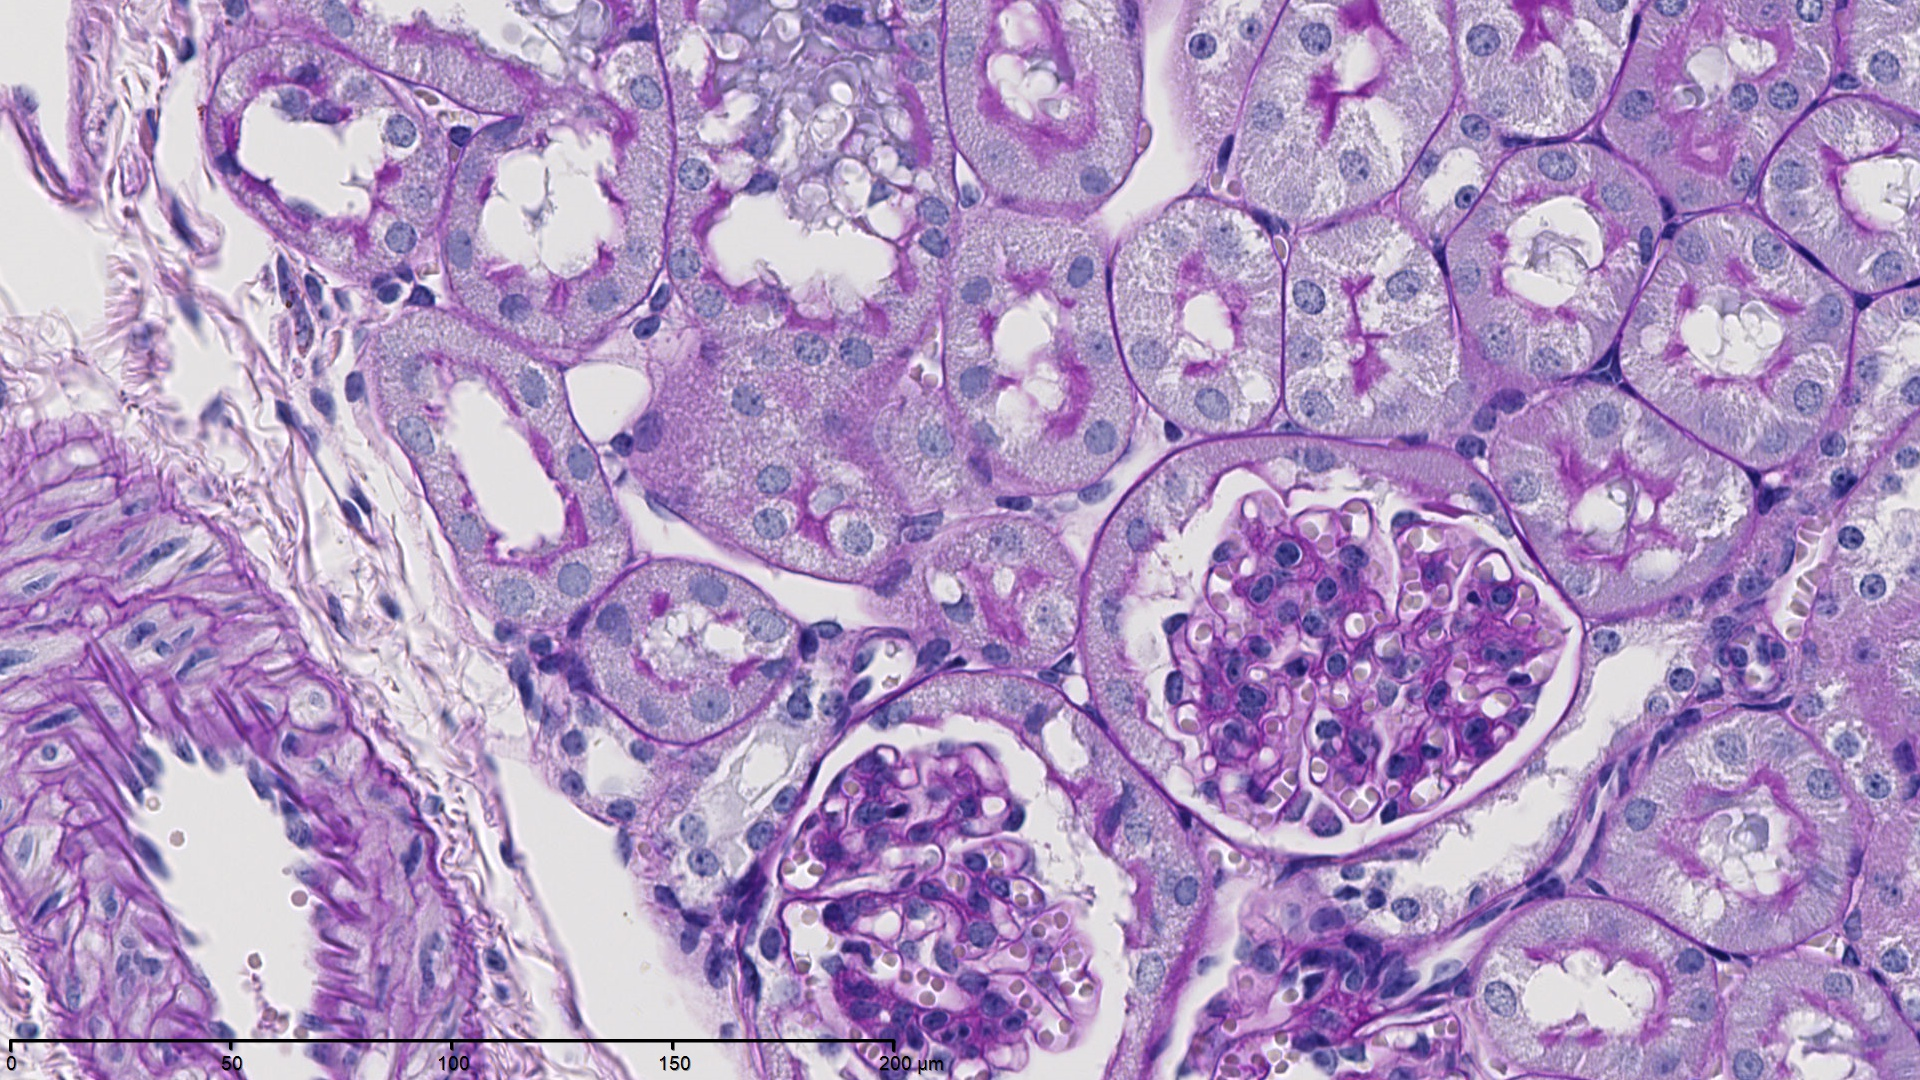Glomeruli: (1153, 476, 1575, 828), (760, 738, 1116, 1077)
